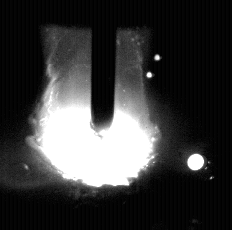arame: (92, 0, 116, 138)
poca: (33, 0, 158, 230)
